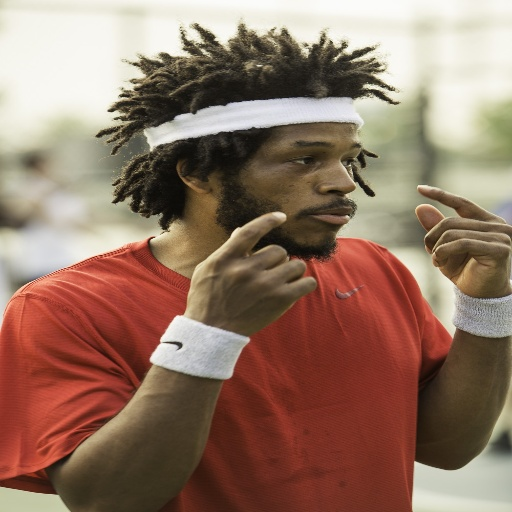hand: (187, 209, 320, 333), (419, 162, 512, 292)
